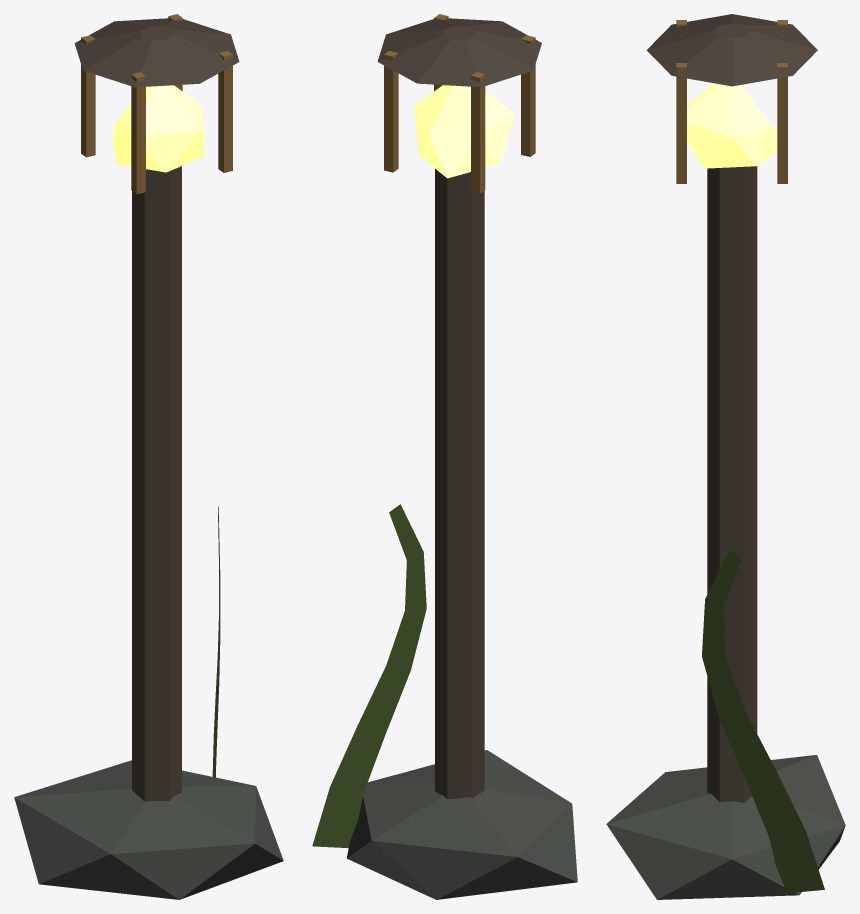
Rendered from beacon_spot.glb.
3 renders of one model, left to right at view 1: azimuth 30°, elevation 25°; view 2: azimuth 150°, elevation 25°; view 3: azimuth 270°, elevation 25°, orthographic.
Visible parts, largest first — view 1: beacon_spot; view 2: beacon_spot; view 3: beacon_spot.
Boxes of the visible parts, left/top/right/bottom form: beacon_spot: left=14, top=14, right=283, bottom=899; beacon_spot: left=312, top=14, right=577, bottom=899; beacon_spot: left=606, top=14, right=845, bottom=899.
Bounding box in the file's own units: 0.7139 × 2.55 × 0.6706.
